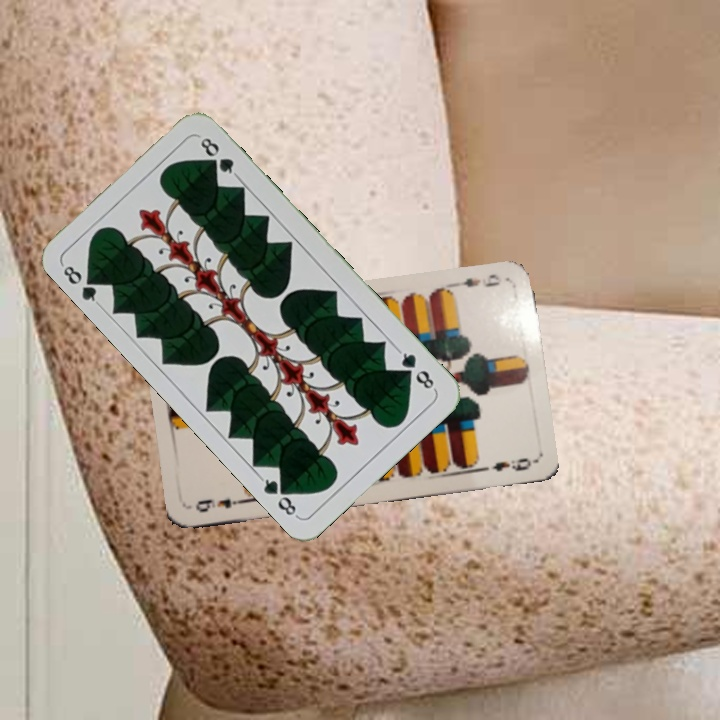E9: (191, 495, 247, 515), (450, 270, 505, 290)
G8: (393, 346, 438, 393), (59, 261, 103, 309)
